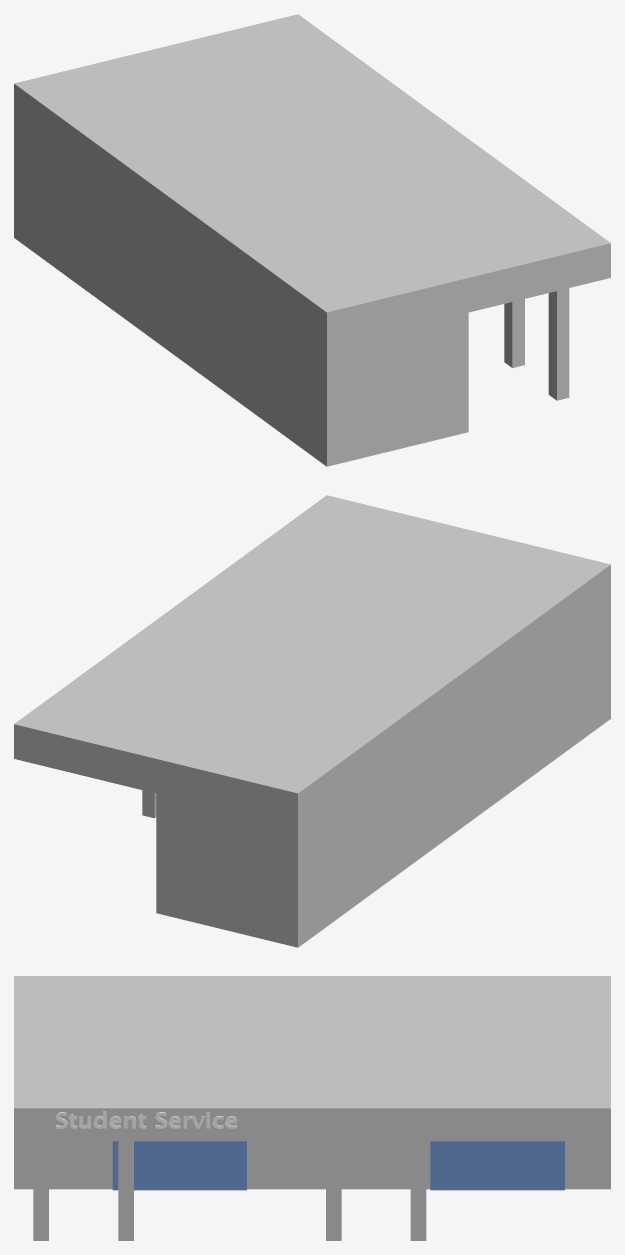
File: SkillStudentService.glb
3 views of the same model, one above another, from view 1: azimuth 30°, elevation 25°; view 2: azimuth 150°, elevation 25°; view 3: azimuth 270°, elevation 25° (orthographic). The views are drawn at different scales.
Parts seen in each view (by area): view 1: typeMesh2; view 2: typeMesh2; view 3: typeMesh2.
Boxes of the visible parts, <box> form: typeMesh2: <box>14,14,610,466</box>; typeMesh2: <box>14,495,610,947</box>; typeMesh2: <box>14,976,610,1240</box>.
Size of the model in its own units: 5.18 by 2.69 by 9.85.
